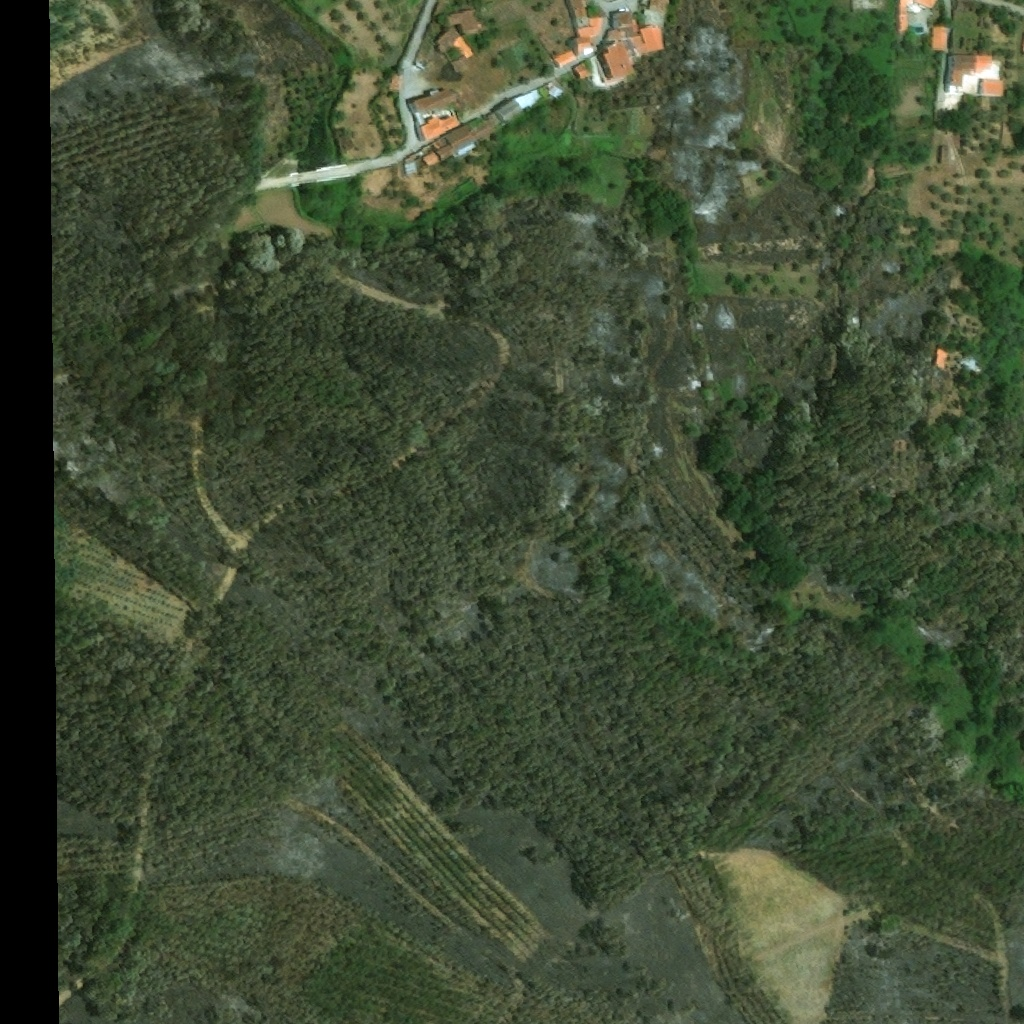0 no-damage: (944, 55, 992, 93), (414, 89, 456, 114), (605, 43, 635, 77), (421, 115, 459, 140), (443, 126, 475, 154), (611, 12, 641, 40), (449, 10, 480, 34), (497, 99, 523, 126), (436, 28, 461, 55), (644, 0, 669, 26), (641, 26, 665, 53), (565, 0, 596, 20), (514, 89, 542, 111), (960, 357, 988, 378), (468, 120, 495, 141), (452, 36, 475, 59), (577, 18, 603, 38), (432, 0, 450, 25), (545, 82, 565, 103), (628, 35, 647, 55), (454, 141, 476, 158), (434, 145, 454, 163), (898, 0, 909, 32), (933, 25, 947, 50), (555, 51, 576, 67), (450, 56, 468, 73), (981, 82, 1003, 95), (422, 152, 439, 168), (574, 64, 591, 80), (909, 0, 938, 9), (605, 29, 628, 40), (936, 348, 948, 368), (576, 38, 591, 53), (937, 146, 948, 165), (404, 163, 416, 177), (576, 18, 590, 30), (866, 169, 875, 182), (963, 96, 970, 105)
